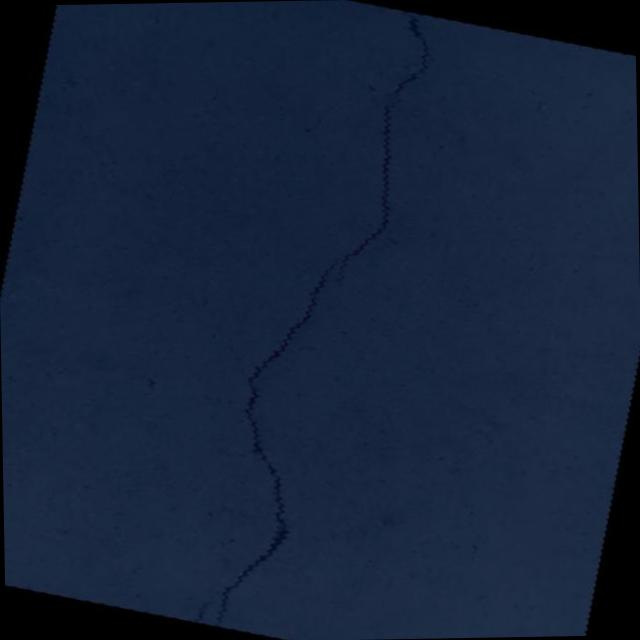crack: (182, 0, 452, 640)
